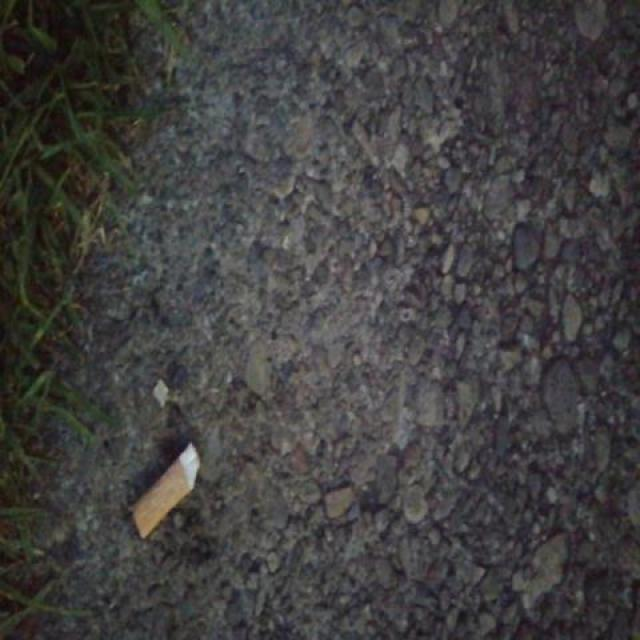non-organic waste: (123, 434, 204, 546)
